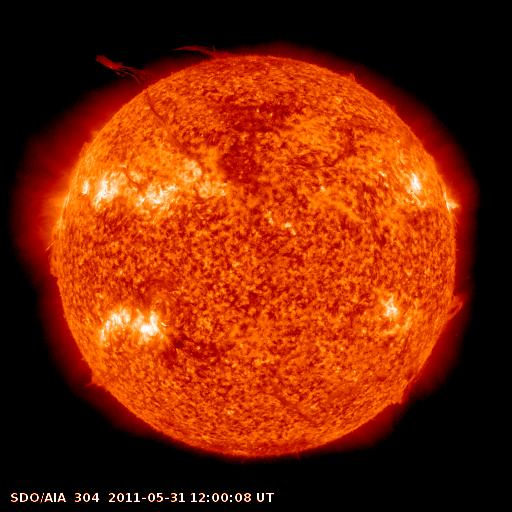prominence: (89, 45, 164, 97), (172, 34, 239, 70), (34, 237, 72, 291), (74, 363, 121, 404), (377, 375, 425, 415), (328, 57, 374, 96), (440, 283, 472, 336), (73, 123, 104, 163)
